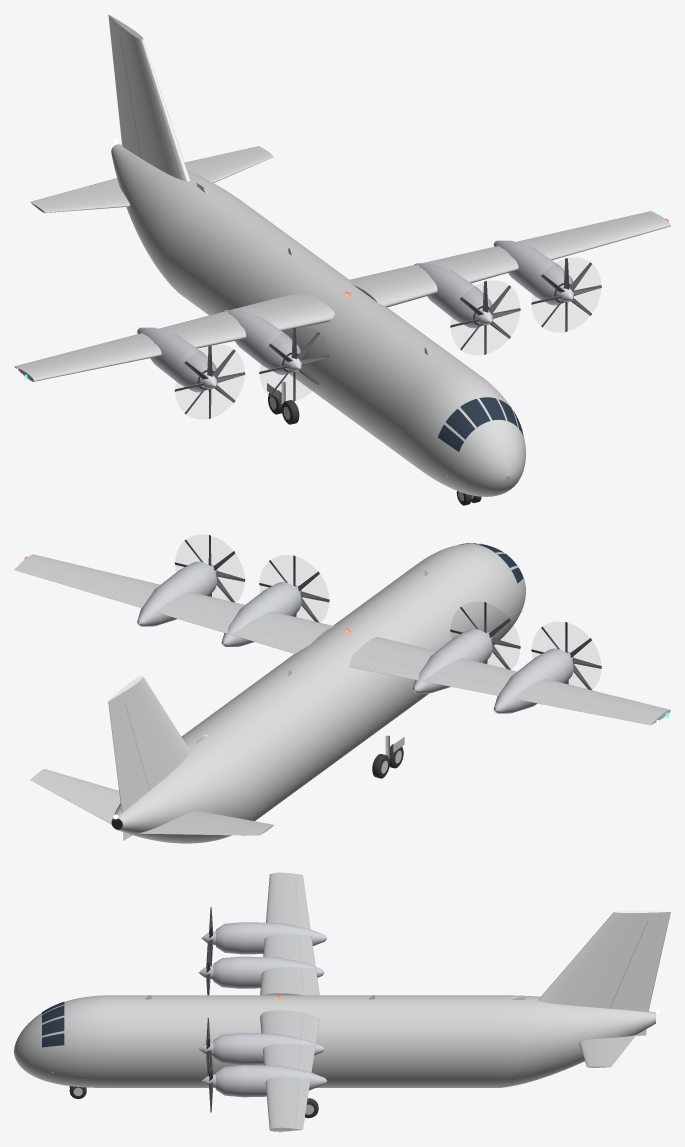
3 renders of one model, top to bottom at view 1: azimuth 30°, elevation 25°; view 2: azimuth 150°, elevation 25°; view 3: azimuth 270°, elevation 25°, orthographic. The views are drawn at different scales.
Visible parts, largest first — view 1: airframe, prop (×4), gear; view 2: airframe, prop (×4), gear; view 3: airframe, gear.
Part boxes in pixels (box(x1,y1,x2,y2)): airframe: box(14, 14, 670, 496); prop (×4): box(174, 258, 601, 418); gear: box(267, 381, 481, 505); airframe: box(14, 543, 670, 843); prop (×4): box(174, 535, 601, 690); gear: box(372, 735, 404, 778); airframe: box(14, 872, 670, 1132); gear: box(69, 1086, 318, 1118).
Bounding box in the file's own units: 42.87 × 14.29 × 46.15.
